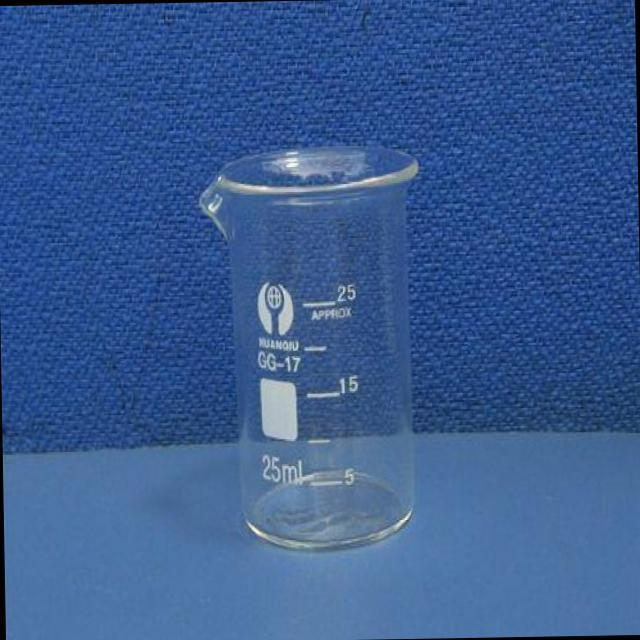Beaker: (193, 138, 425, 551)
